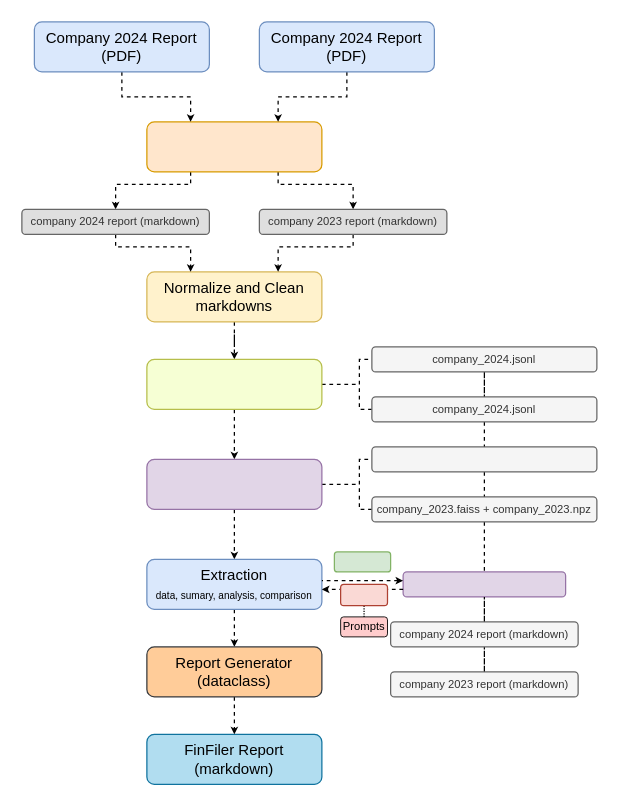
Image size: 619x806. Some labels were removed from this diagram. The box of each missing label's shape, as (x1, y1, x2, y2) in pixels:
Build embeddings: (146, 458, 322, 509)
company_2024.faiss + company_2024.npz: (371, 446, 597, 472)
Create JSONL sections: (146, 358, 322, 409)
Keywords: (333, 551, 391, 572)
LLM: (339, 583, 388, 606)
PDF Parser (Mistral OCR/Docling): (146, 121, 322, 172)
Query Engine (RAG): (402, 571, 566, 597)
